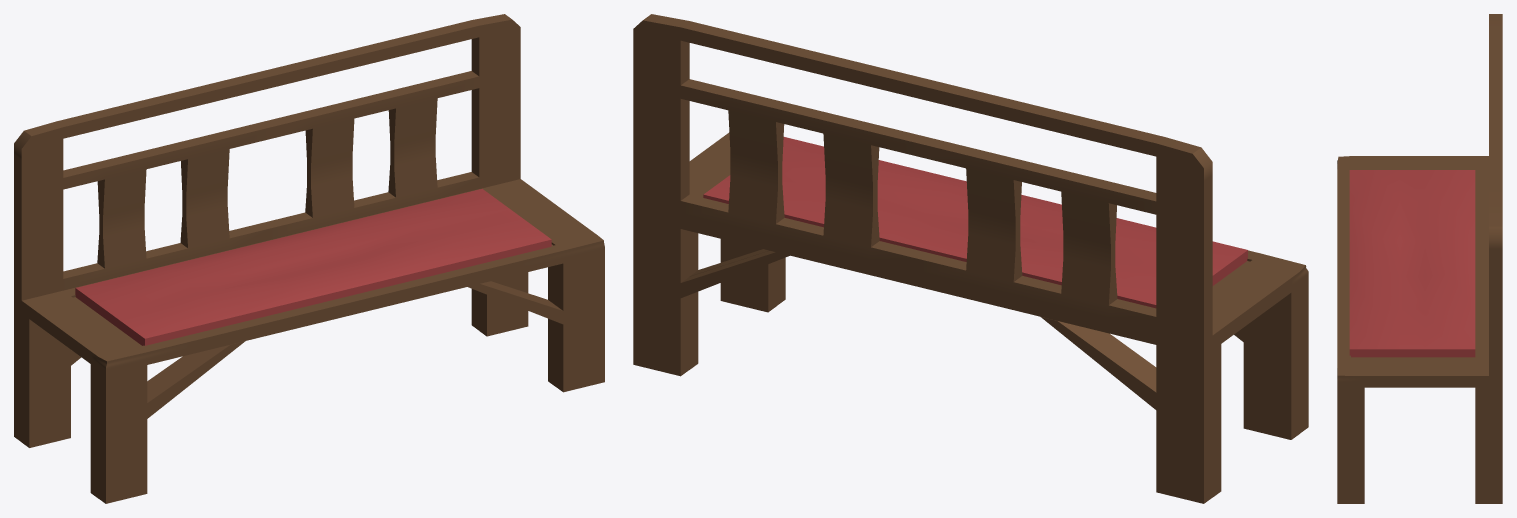
Rendered from Bench.fbx.
The picture shows the model from 3 angles, left to right: view 1: azimuth 30°, elevation 25°; view 2: azimuth 150°, elevation 25°; view 3: azimuth 270°, elevation 25°; orthographic projection. The views are drawn at different scales.
Visible parts, largest first — view 1: pCube4; view 2: pCube4; view 3: pCube4.
Boxes of the visible parts, <box> form: pCube4: <box>14,14,604,503</box>; pCube4: <box>633,14,1308,503</box>; pCube4: <box>1337,14,1502,503</box>.
Bounding box in the file's own units: 0.4032 × 0.2357 × 0.1283.
